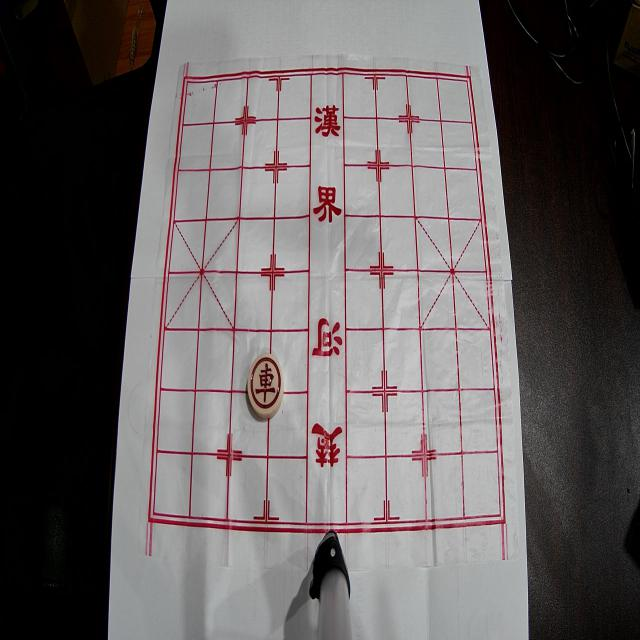red-chariot: (248, 353, 284, 419)
